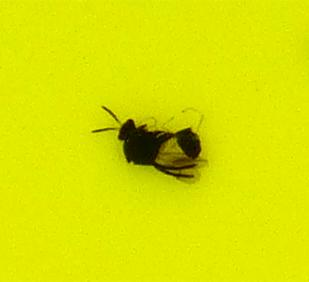Hymenoptera: (100, 100, 209, 182)
